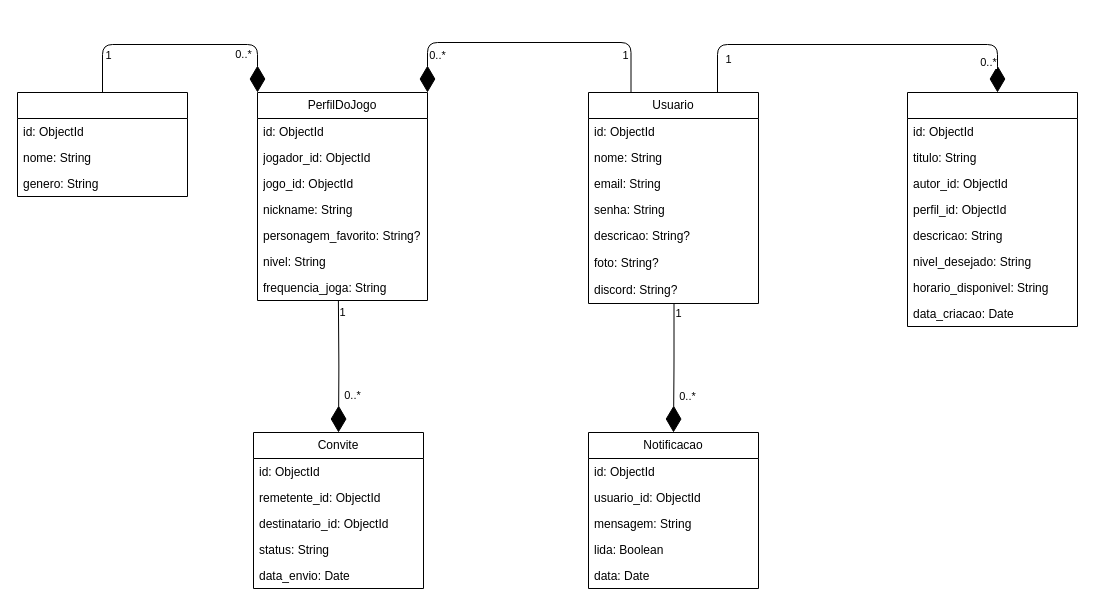
The diagram is 1095 pixels wide and 609 high, and some of its shapes have lost their labels. Each missing label, with the box of its shape:
Jogo: (16, 92, 188, 196)
Publicacao: (906, 92, 1078, 326)
